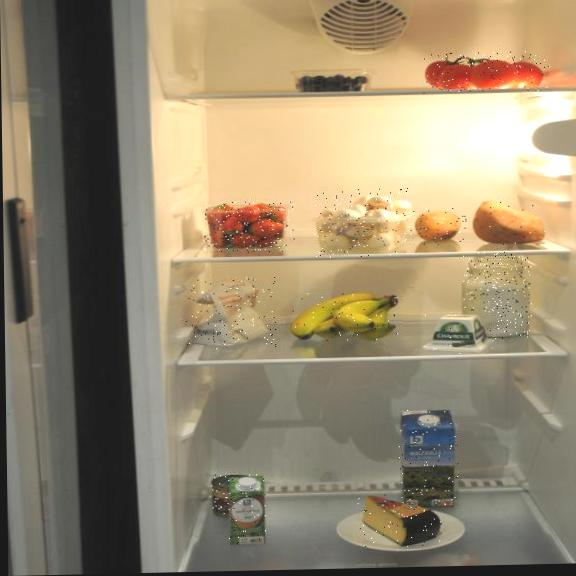banana: (290, 292, 403, 344)
blueberries: (290, 68, 378, 94)
cheese: (358, 491, 445, 549)
corn: (211, 473, 258, 518)
flour: (185, 277, 276, 350)
goat_cheese: (422, 311, 495, 355)
heavy_cream: (228, 475, 266, 544)
milk: (398, 408, 461, 511)
mushrooms: (313, 188, 413, 258)
strawberries: (203, 201, 295, 253)
sugar: (462, 251, 532, 340)
sweet_potato: (470, 200, 549, 247), (413, 208, 467, 246)
tomato: (423, 51, 551, 94)
